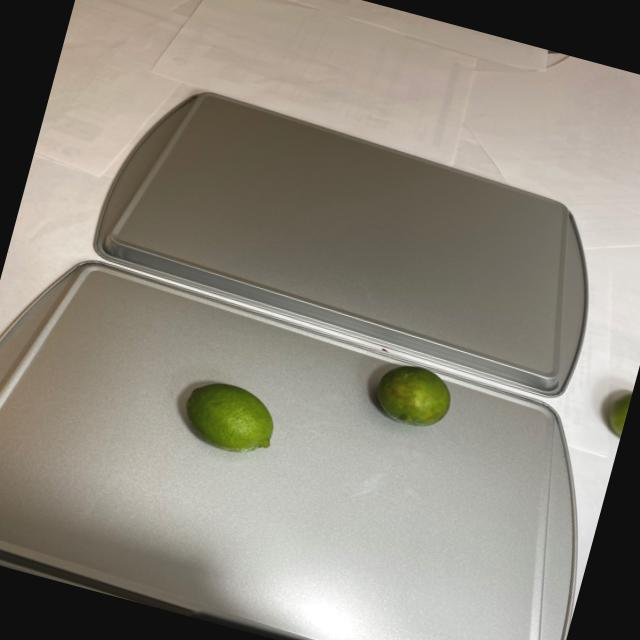lemon: (175, 370, 289, 465), (363, 356, 463, 438)
